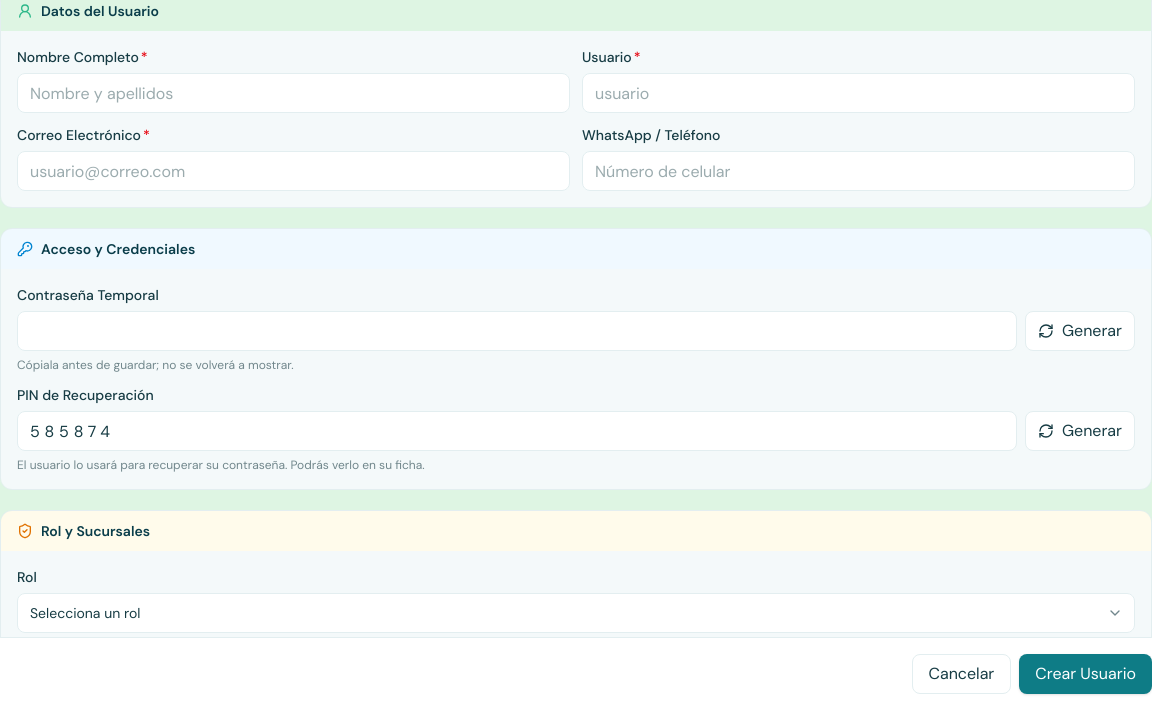
UserForm › exige una sucursal para roles que no son administradores
The width and height of the screenshot is (1164, 710).
Type "Ana Operadora" into the field labelled "Nombre Completo". click: coordinates (294, 93)
box: [17,73,570,113]
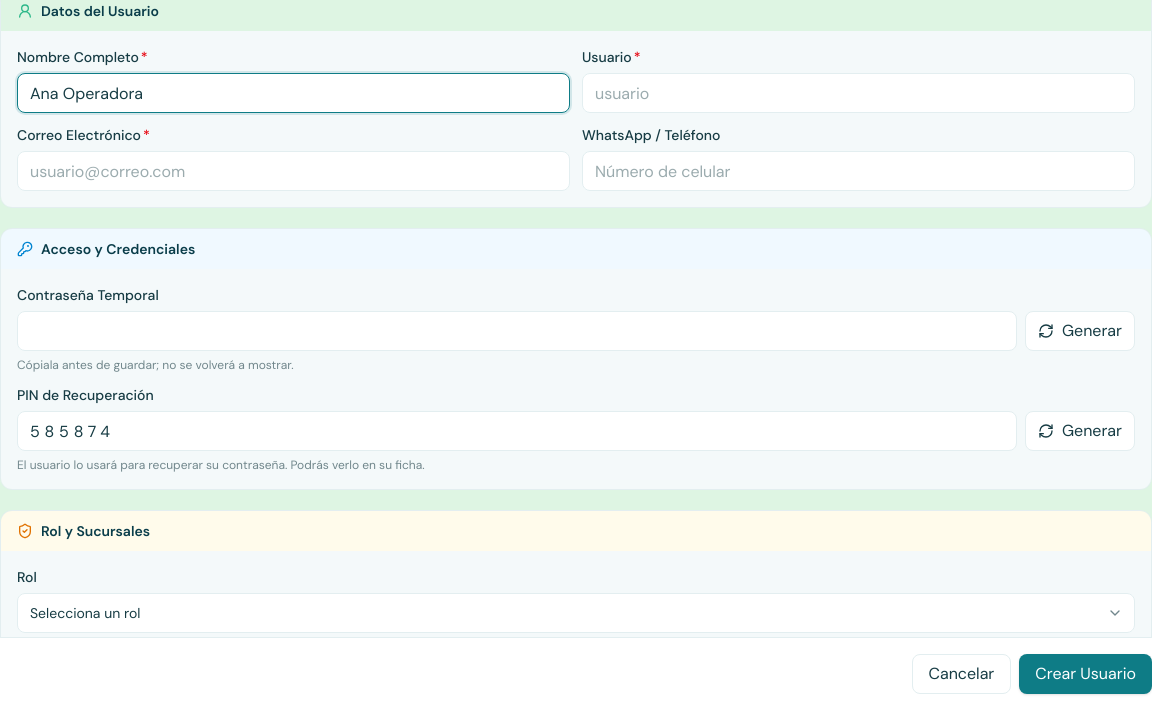
Type "ana.op" into the field labelled "Usuario". click: coordinates (858, 93)
box: [582,73,1135,113]
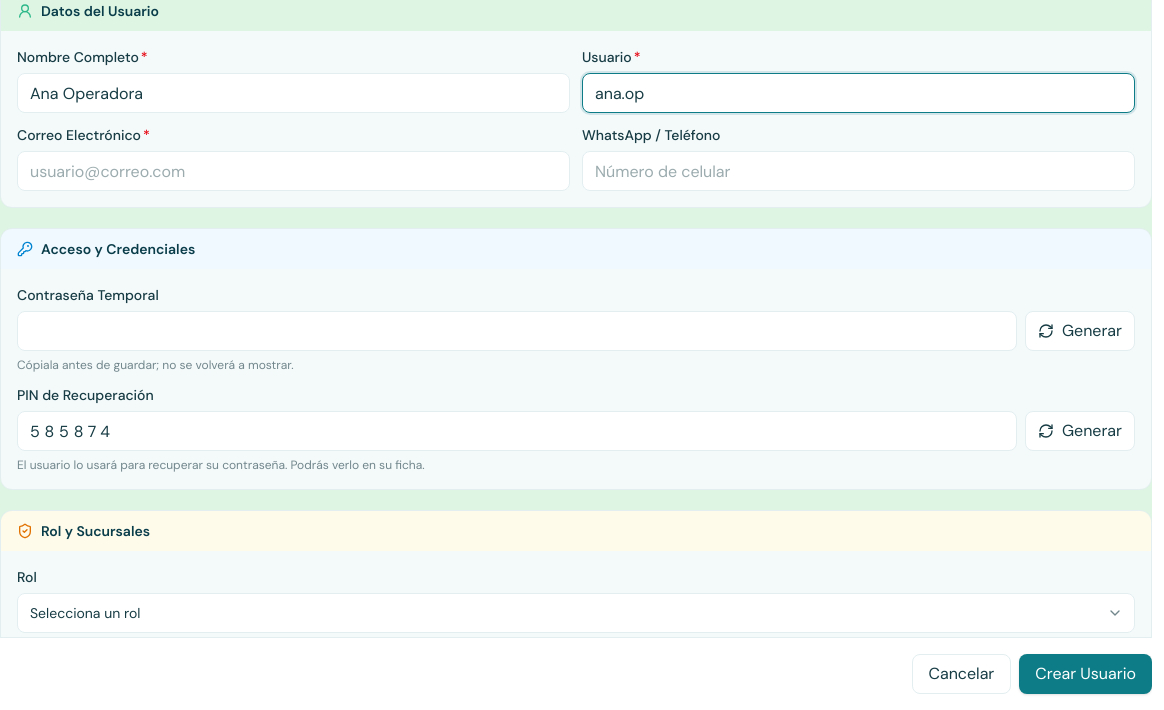
Type "Ana@Example.com" into the field labelled "Correo Electrónico". click: coordinates (294, 171)
box: [17,151,570,191]
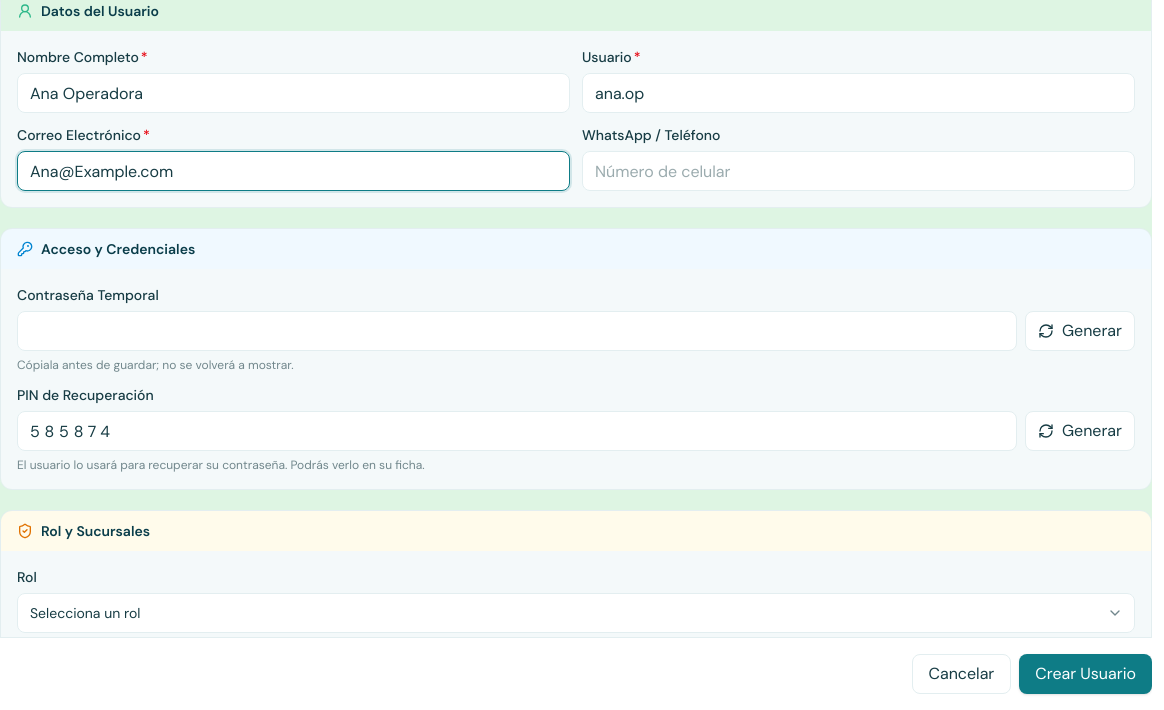
Type "Password-2026!" into the field labelled "Contraseña Temporal". click: coordinates (517, 331)
box: [17,311,1017,351]
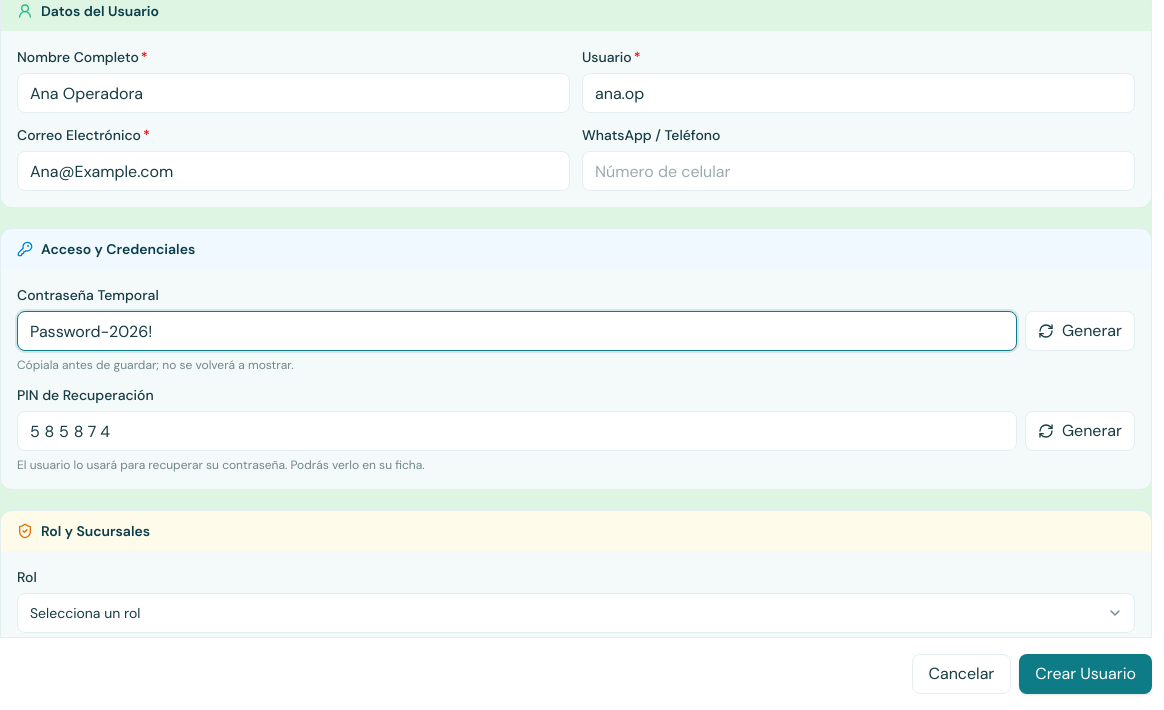
Select "Cajero" in the dropdown labelled "Rol". click: coordinates (576, 613)
box: [17,593,1135,633]
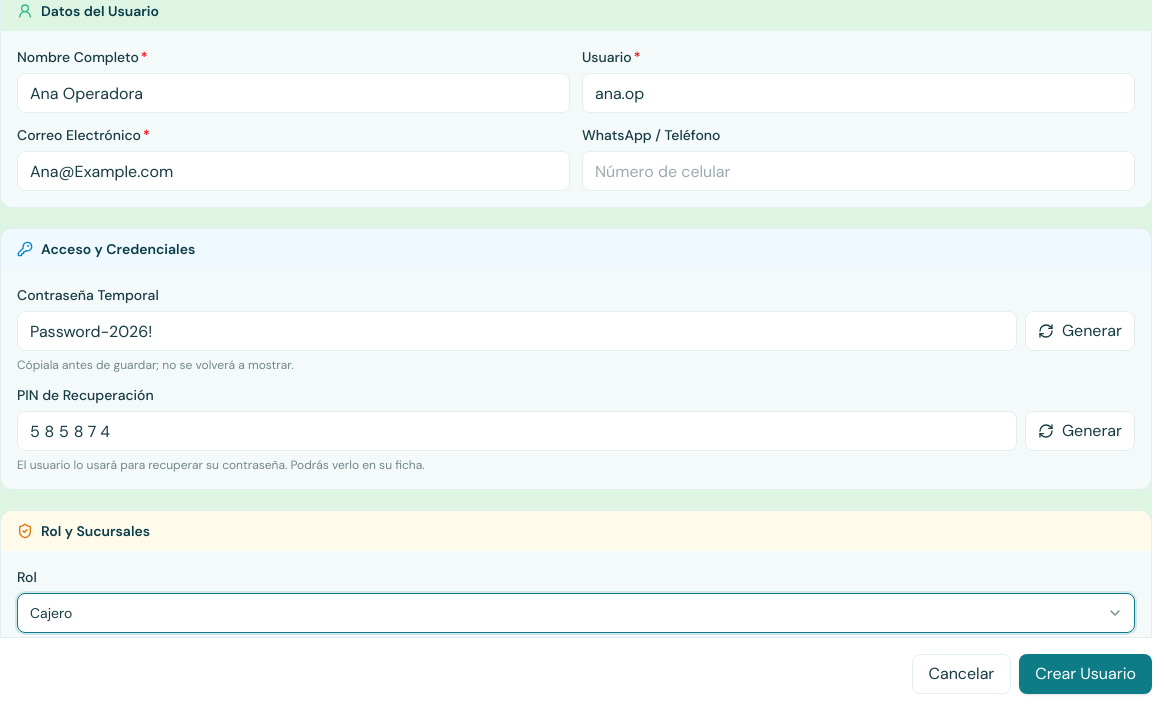
Click the button "Crear Usuario". click: coordinates (1086, 674)
box: [1019,654,1152,694]
(page scrolled)
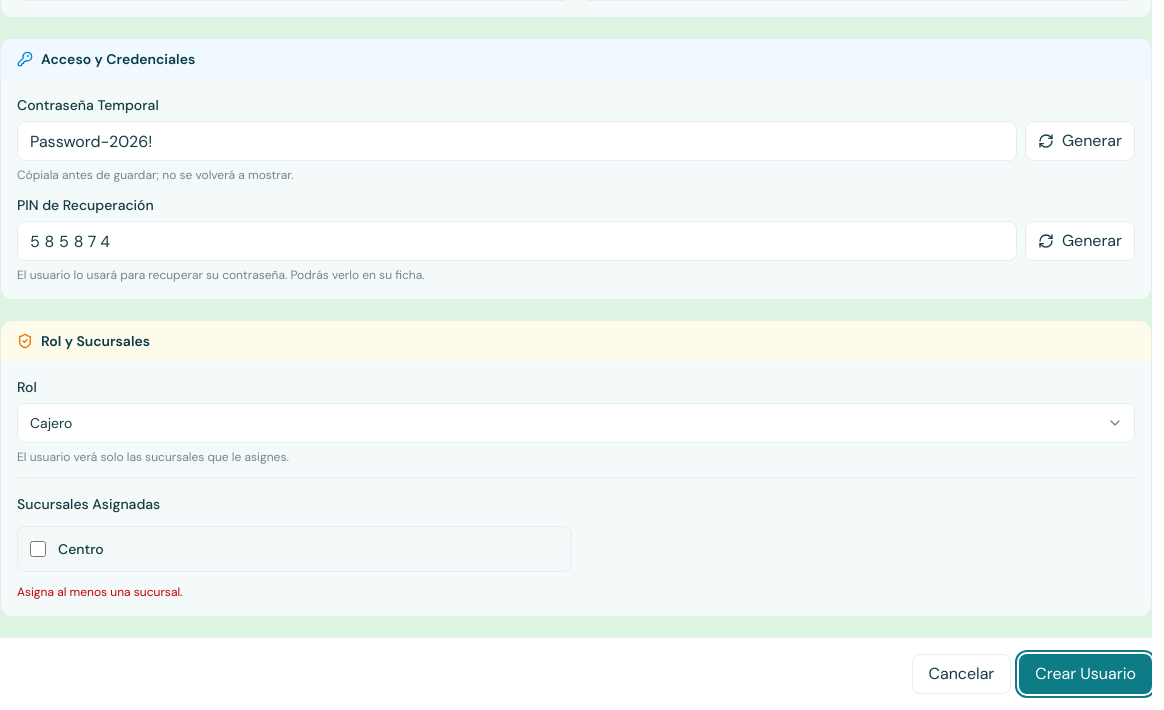
expect the text "Asigna al menos una sucursal." is shown: met, box [17,584,182,600]
